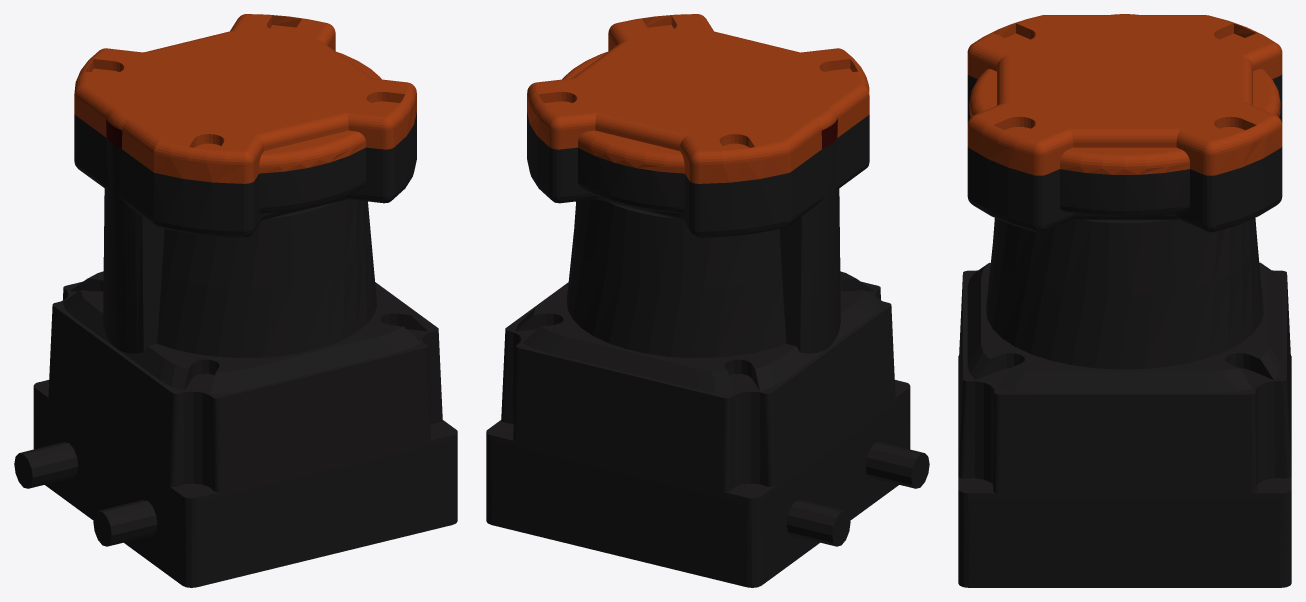
The model's file is utm_30lx.dae.
3 views of the same model, side by side, from view 1: azimuth 30°, elevation 25°; view 2: azimuth 150°, elevation 25°; view 3: azimuth 270°, elevation 25° (orthographic). The views are drawn at different scales.
Visible parts, largest first — view 1: ShapeIndexedFaceSet_001, ShapeIndexedFaceSet; view 2: ShapeIndexedFaceSet_001, ShapeIndexedFaceSet; view 3: ShapeIndexedFaceSet_001, ShapeIndexedFaceSet.
Part boxes in pixels (box(x1,y1,x2,y2)): ShapeIndexedFaceSet_001: box(14, 112, 457, 587); ShapeIndexedFaceSet: box(74, 14, 416, 183); ShapeIndexedFaceSet_001: box(486, 112, 929, 587); ShapeIndexedFaceSet: box(527, 14, 869, 183); ShapeIndexedFaceSet_001: box(958, 74, 1291, 587); ShapeIndexedFaceSet: box(967, 14, 1282, 175).
Bounding box in the file's own units: 0.07 × 0.06 × 0.087.
